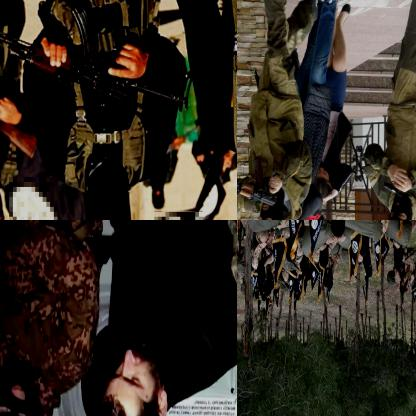pistol: (381, 175, 406, 199)
rifle: (0, 0, 188, 113), (237, 157, 281, 208)
